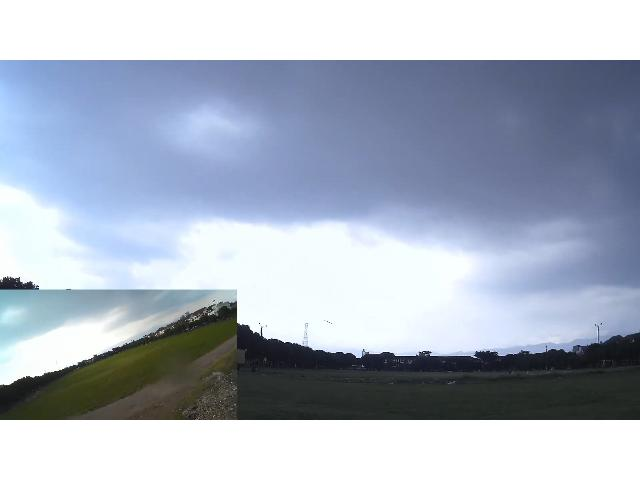Anti-Drone: (318, 313, 344, 338)
